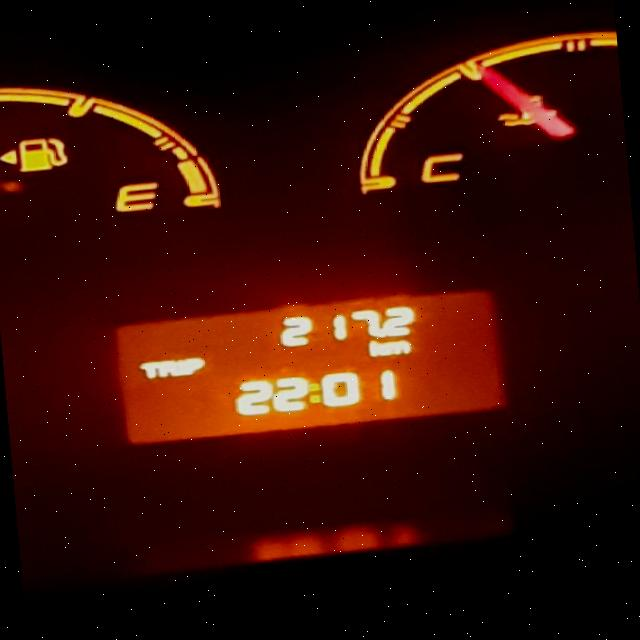odometer: (104, 280, 516, 450)
